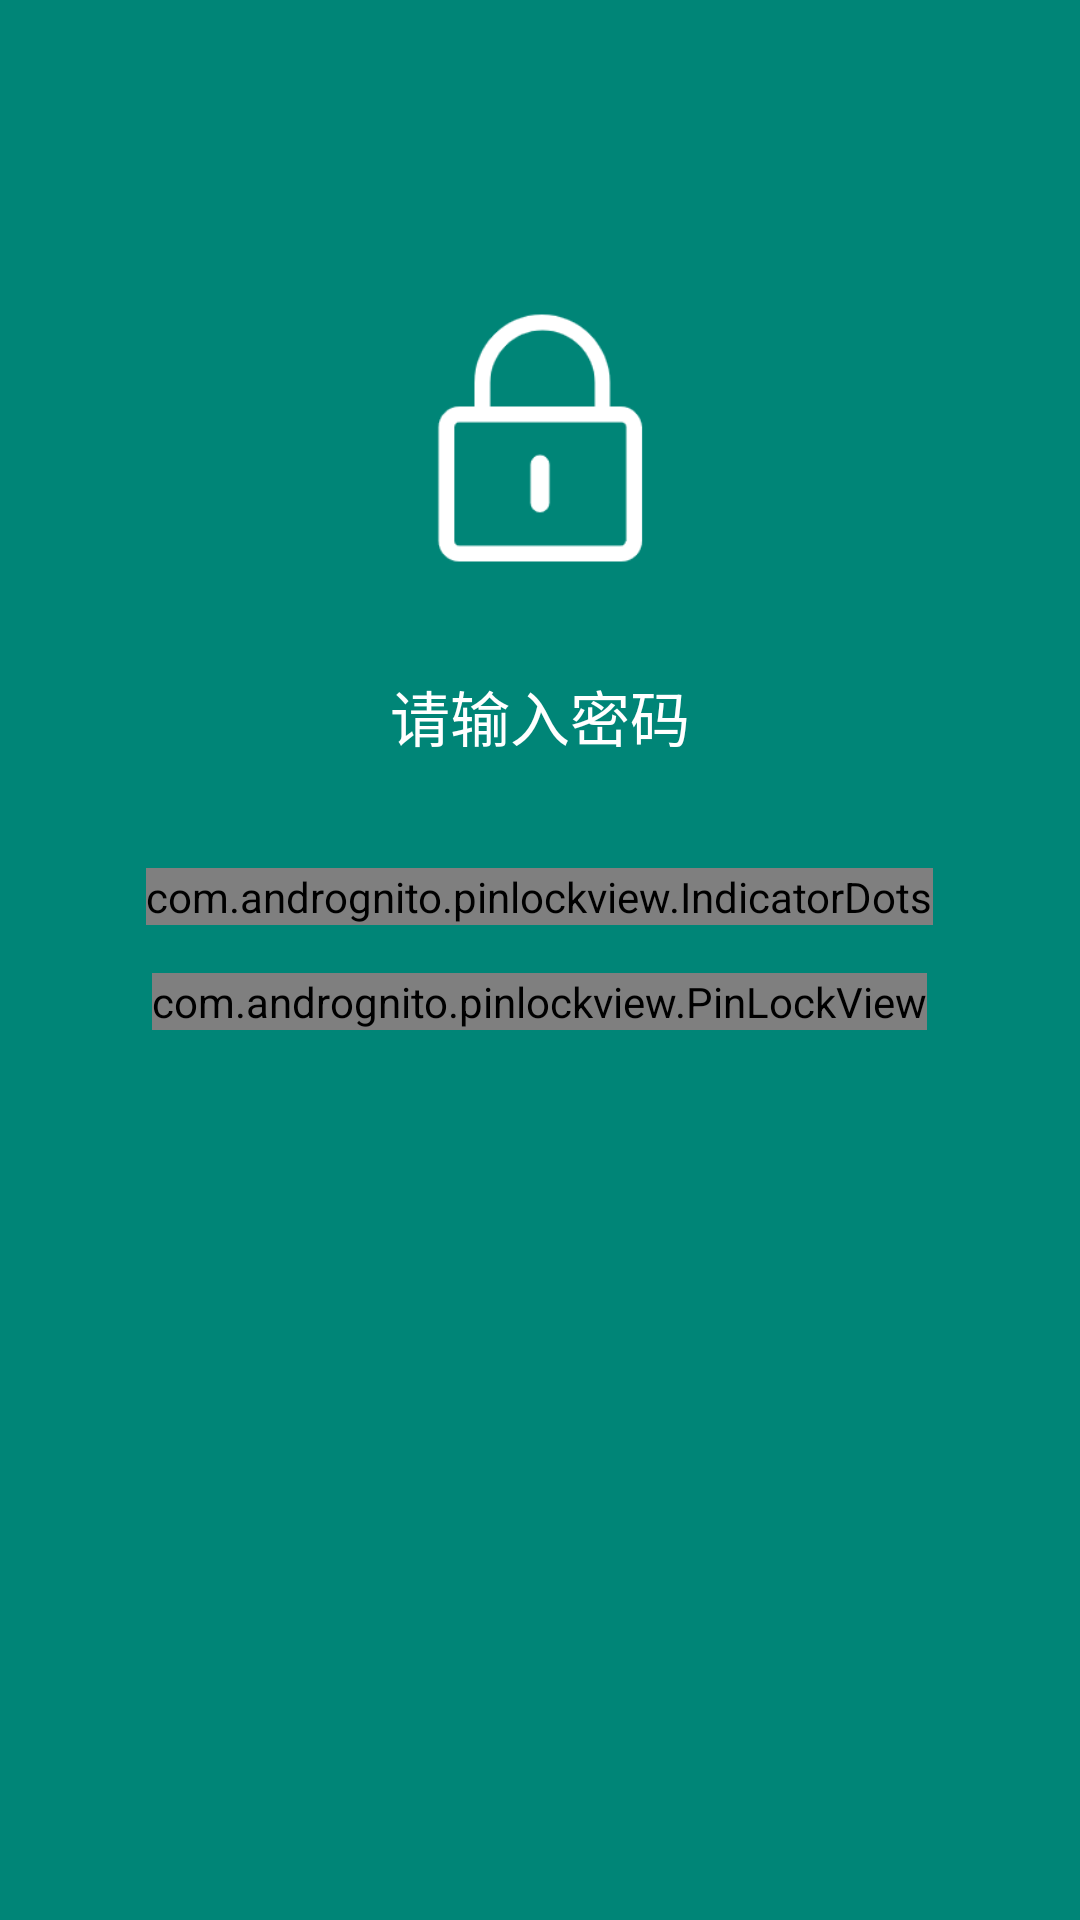

Where to tap for icons on this 1080px x 1920px app screen, as (x=x, y=y):
password: (x=540, y=438)
